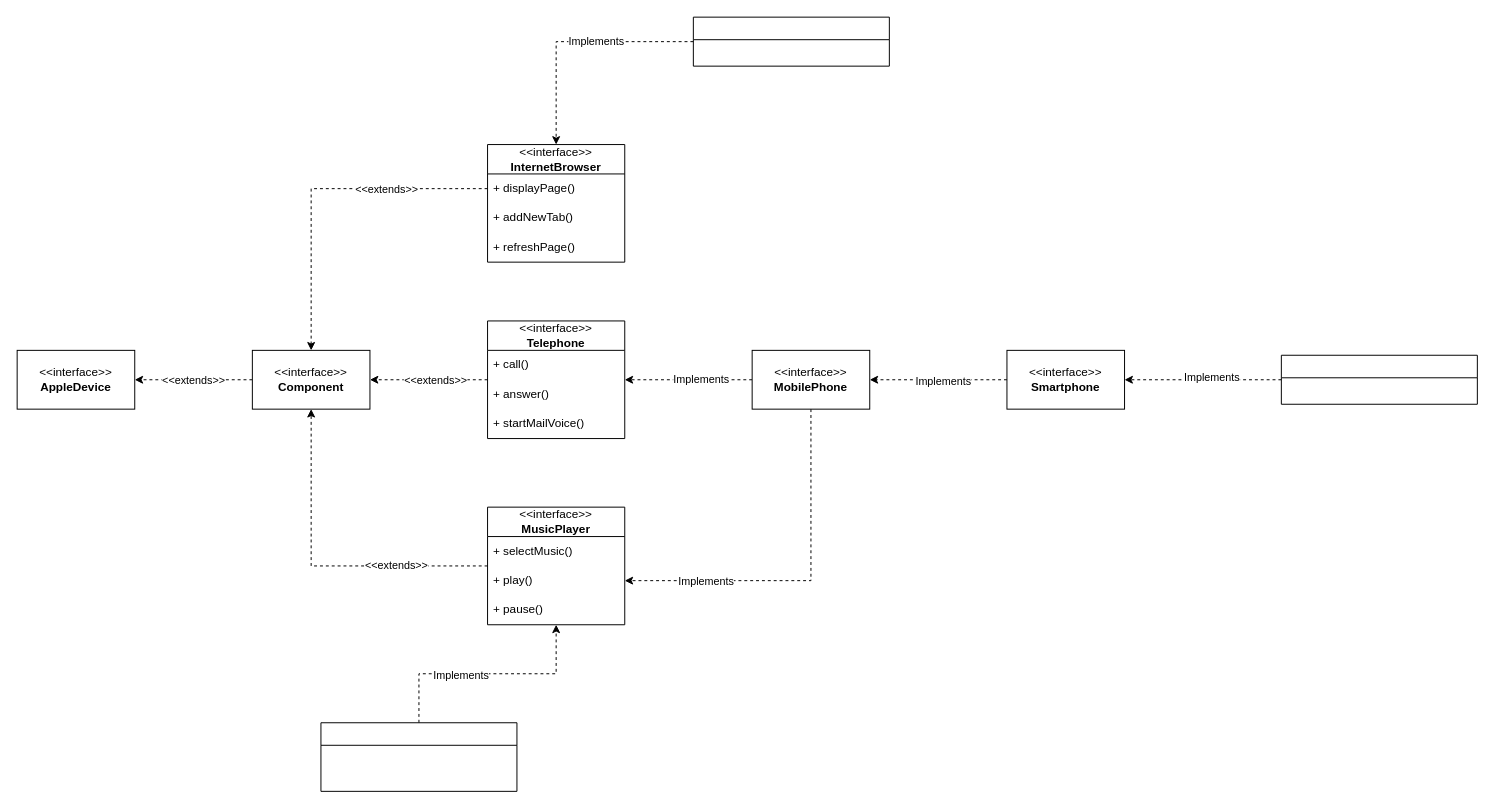
This 1495x809 diagram has some shape labels left out. The centre of each missing label's shape, as x and y in pixels:
iPhone: point (1378, 379)
IPod: point (418, 756)
Macintosh: point (790, 41)
